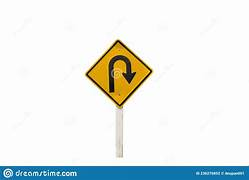back: (83, 38, 153, 107)
